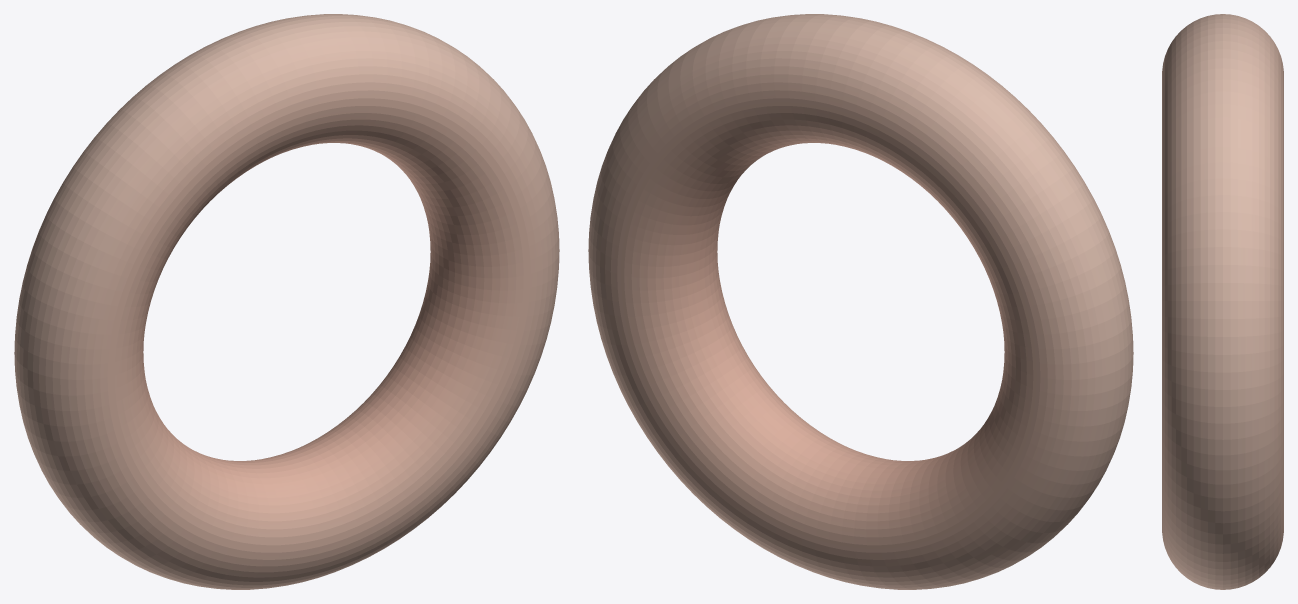
The picture shows the model from 3 angles, left to right: view 1: azimuth 30°, elevation 25°; view 2: azimuth 150°, elevation 25°; view 3: azimuth 270°, elevation 25°; orthographic projection. The views are drawn at different scales.
Visible parts, largest first — view 1: world; view 2: world; view 3: world.
Boxes of the visible parts, left/top/right/bottom form: world: left=14, top=14, right=559, bottom=589; world: left=588, top=14, right=1133, bottom=589; world: left=1162, top=14, right=1283, bottom=589.
Bounding box in the file's own units: 29.6 × 29.6 × 6.25.
